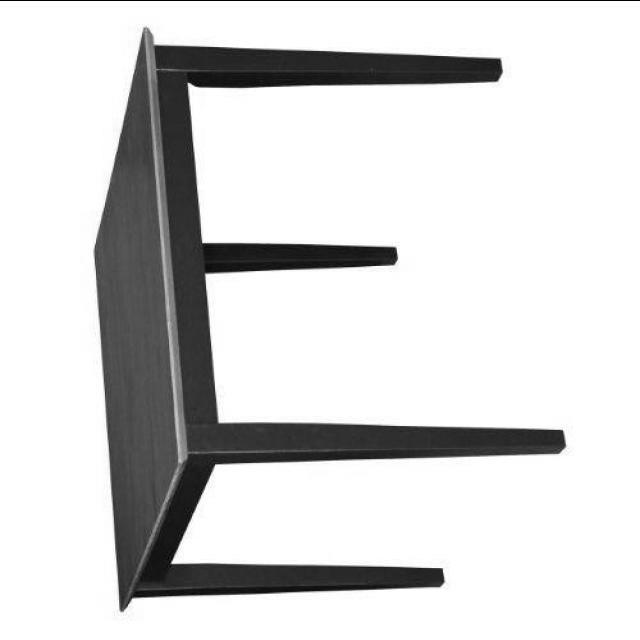table: (93, 25, 565, 611)
